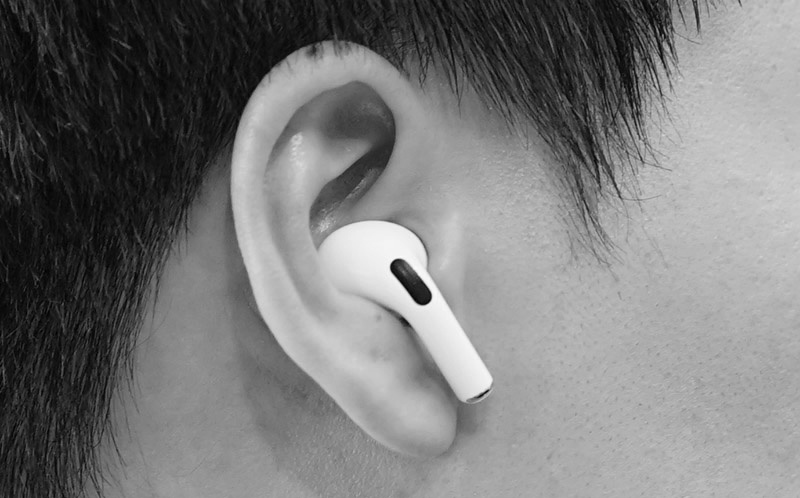earphone: (231, 41, 495, 460)
